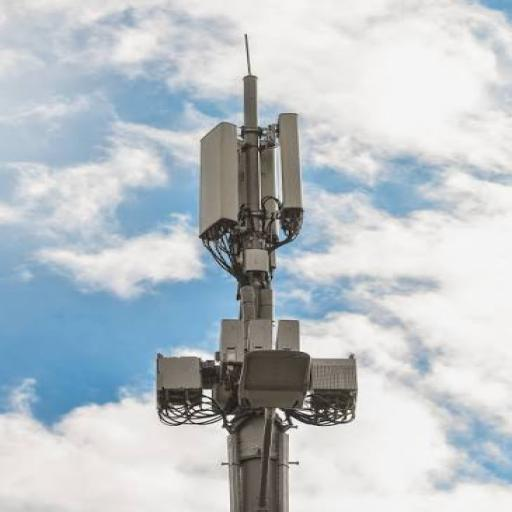odn_pole: (154, 34, 359, 511)
